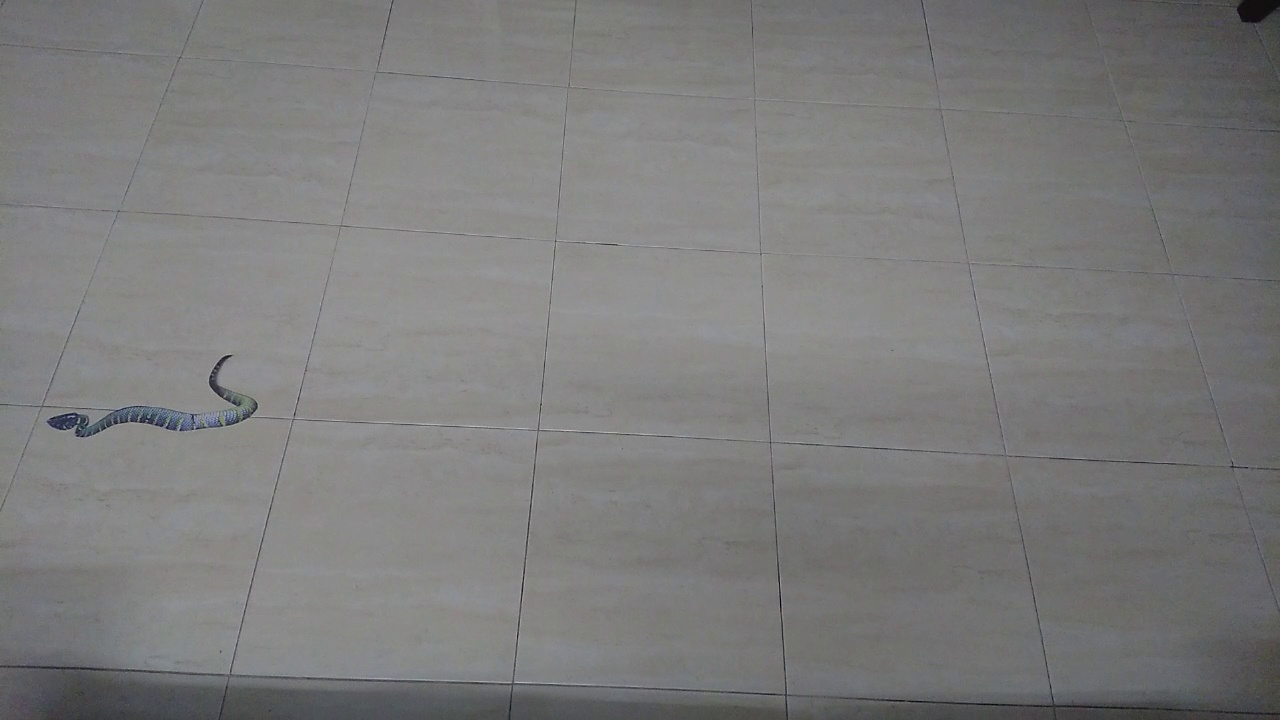snake: (31, 335, 272, 448)
